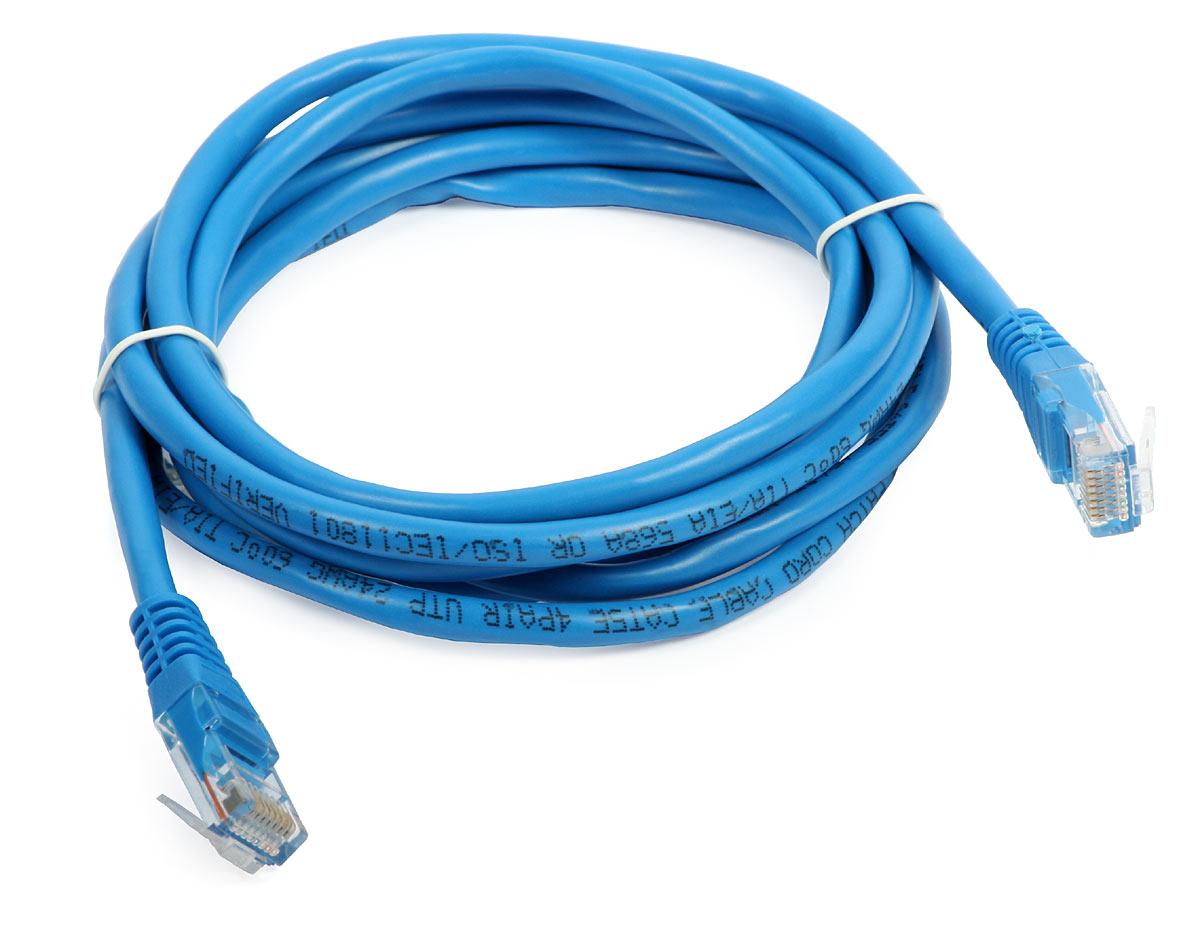Nonrec_Tangler: (77, 1, 1167, 887)
